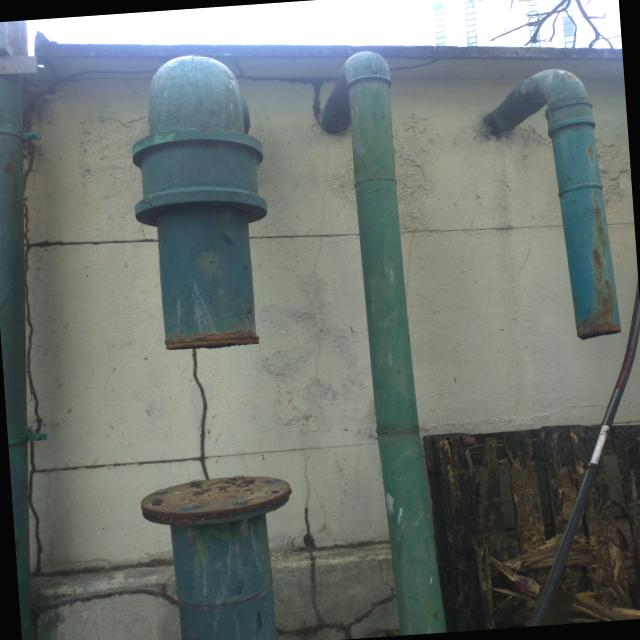gas: (340, 54, 446, 636), (134, 58, 272, 354), (528, 66, 628, 342), (142, 475, 303, 640)
